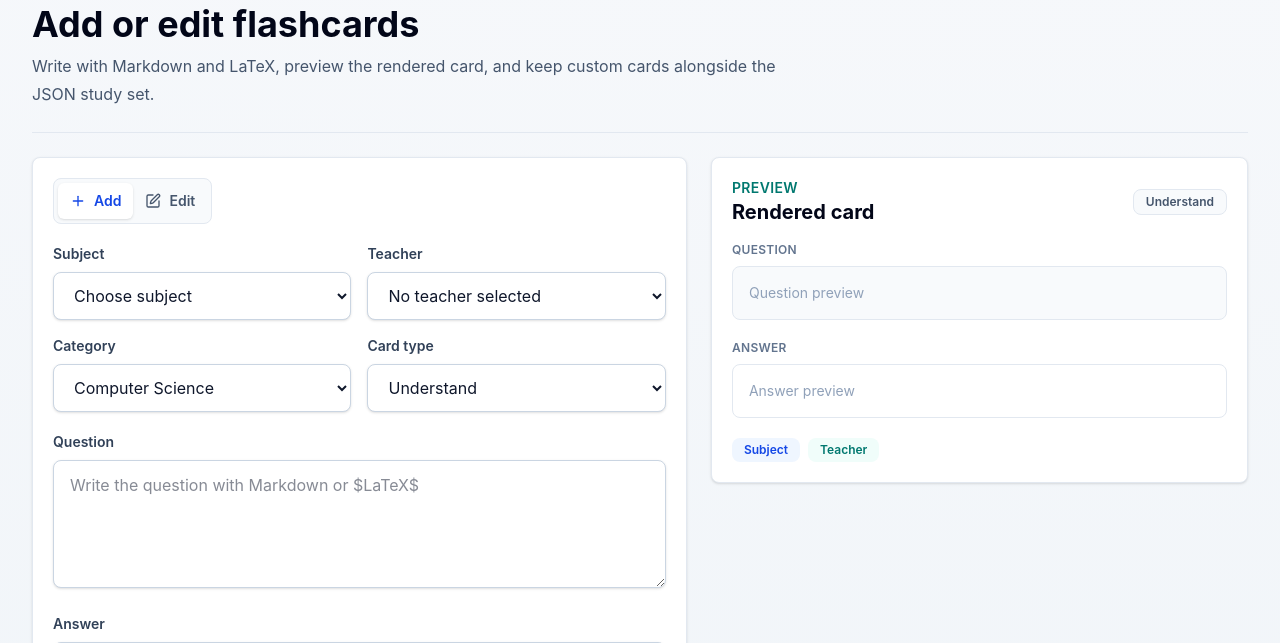
CardEditorPage › adds a flashcard and edits the saved card
Select "Teoretyczne Podstawy Informatyki" in the dropdown labelled "Subject" at (202, 296), box [53,272,352,320]
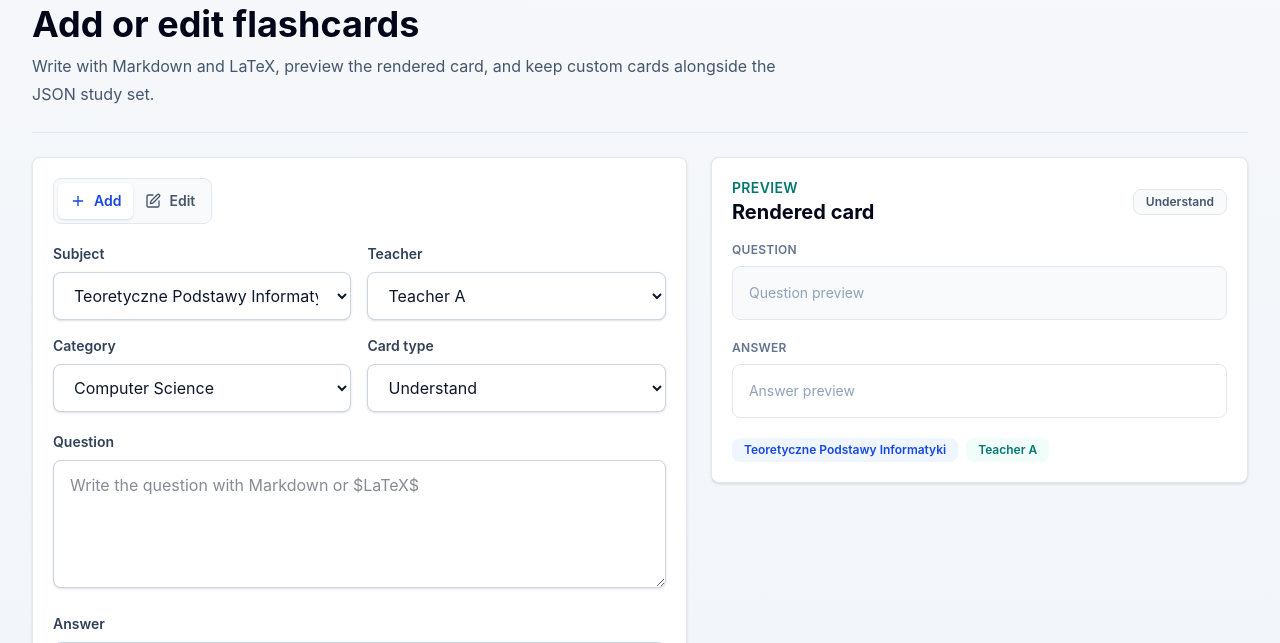
Type "What does a saved test card ask?" into the text box labelled "Question" at (359, 524), box [53,460,666,588]
(page scrolled)
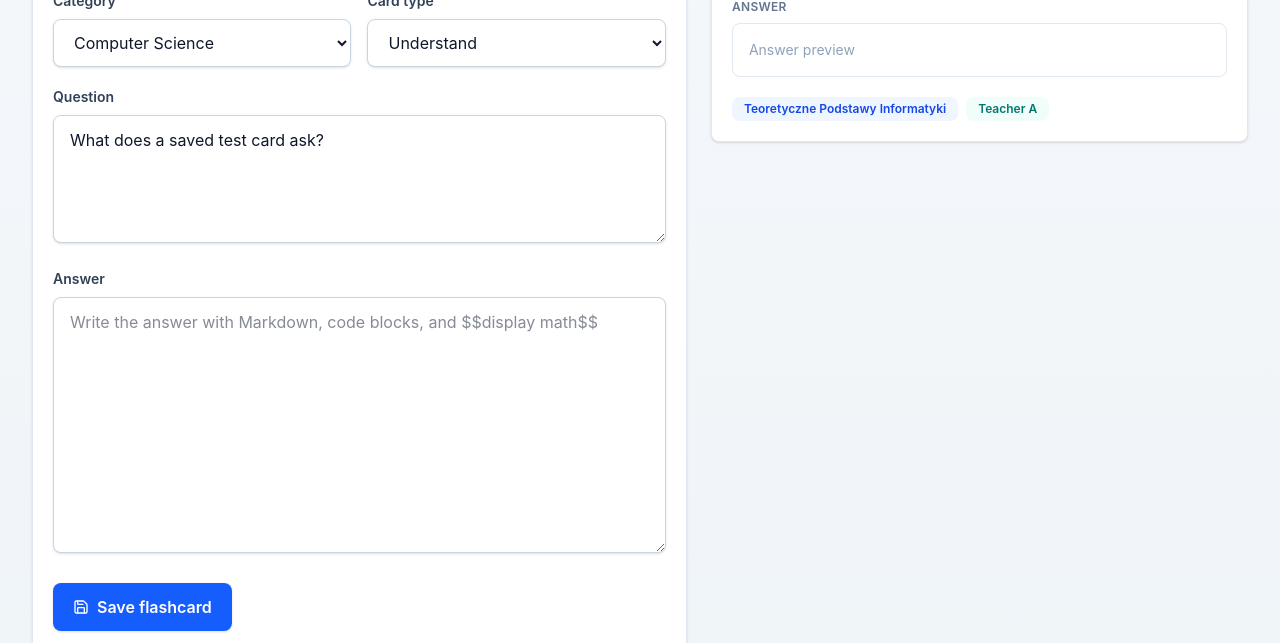
Replace the text in the text box labelled "Answer" with "It asks whether adding flashcards works." at (359, 425), box [53,297,666,553]
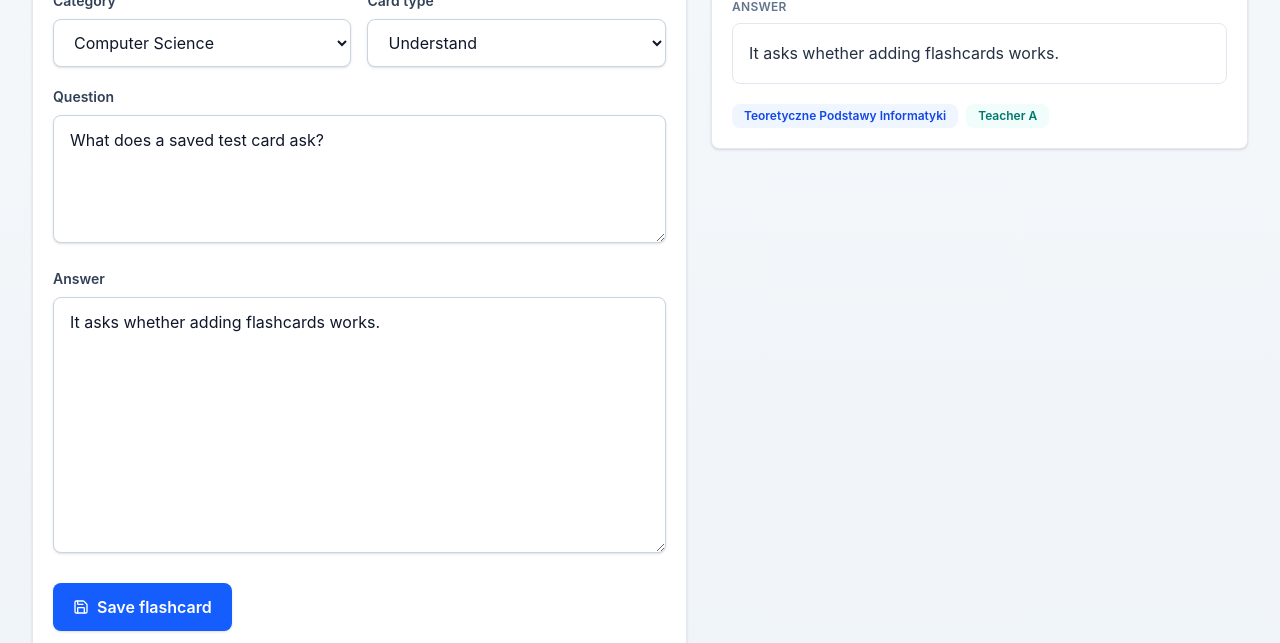
Click the button "Save flashcard" at (142, 607), box [53,583,232,631]
(page scrolled)
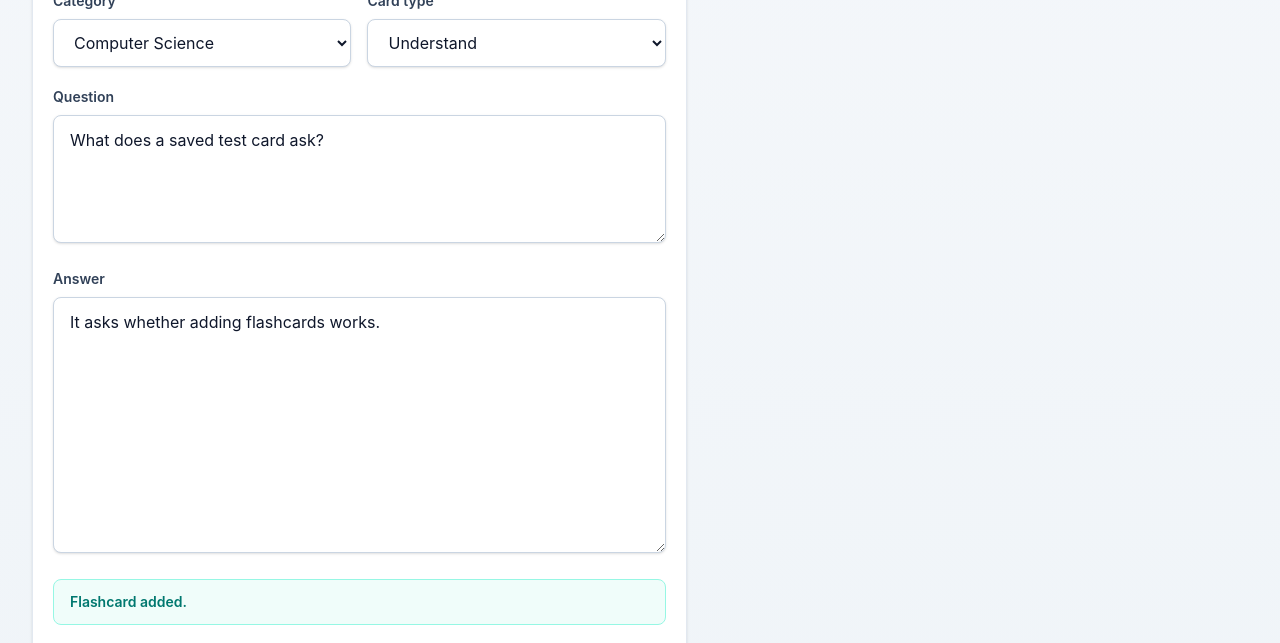
Expected: the text "Flashcard added." is shown, [53,579,666,625]
Replace the text in the text box labelled "Question" with "What does an edited test card ask?" at (359, 179), box [53,115,666,243]
Replace the text in the text box labelled "Answer" with "It asks whether editing flashcards works." at (359, 425), box [53,297,666,553]
(page scrolled)
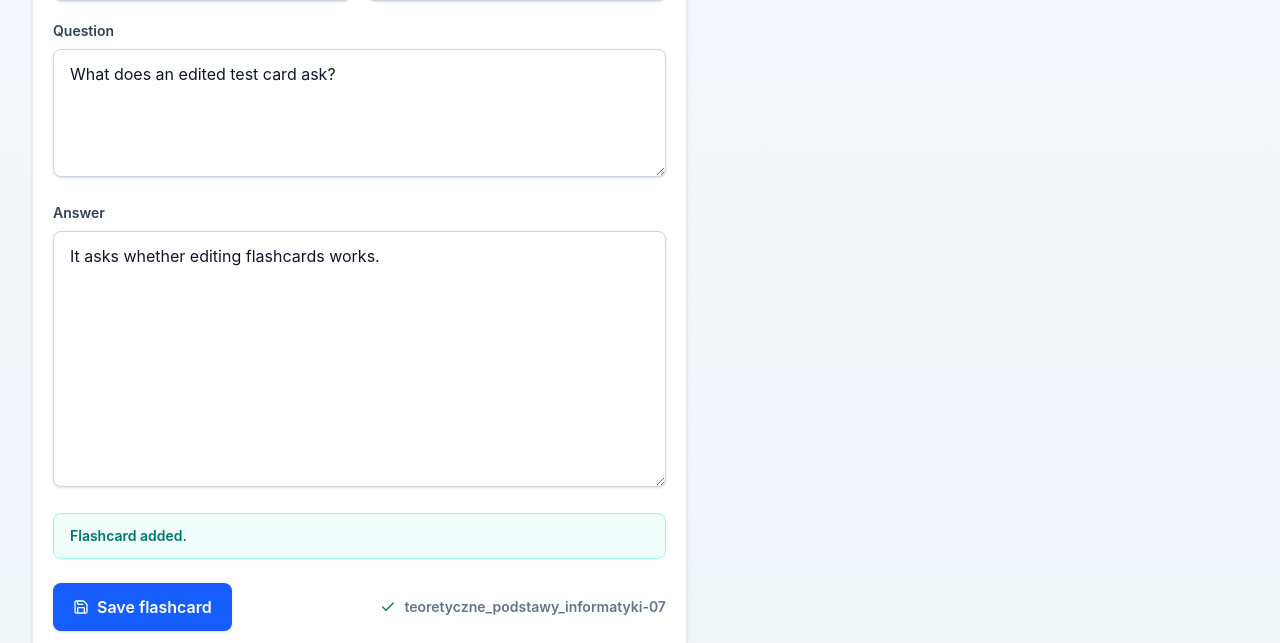
Click the button "Save flashcard" at (142, 607), box [53,583,232,631]
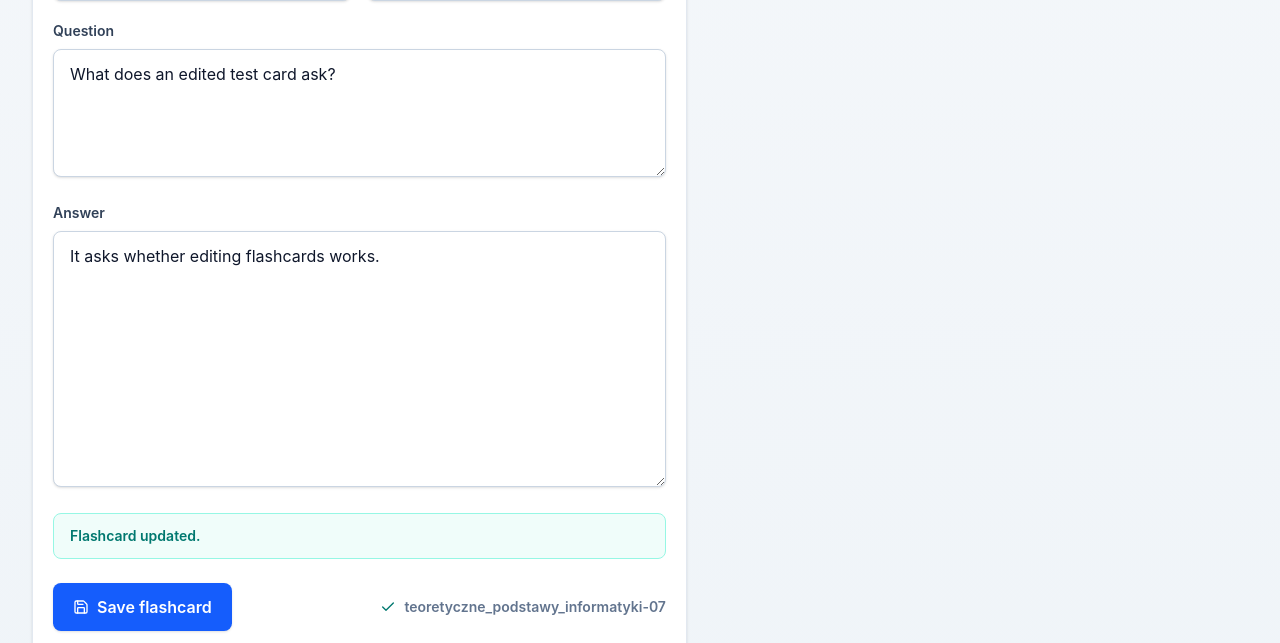
Expected: the text "Flashcard updated." is shown, [53,513,666,559]
